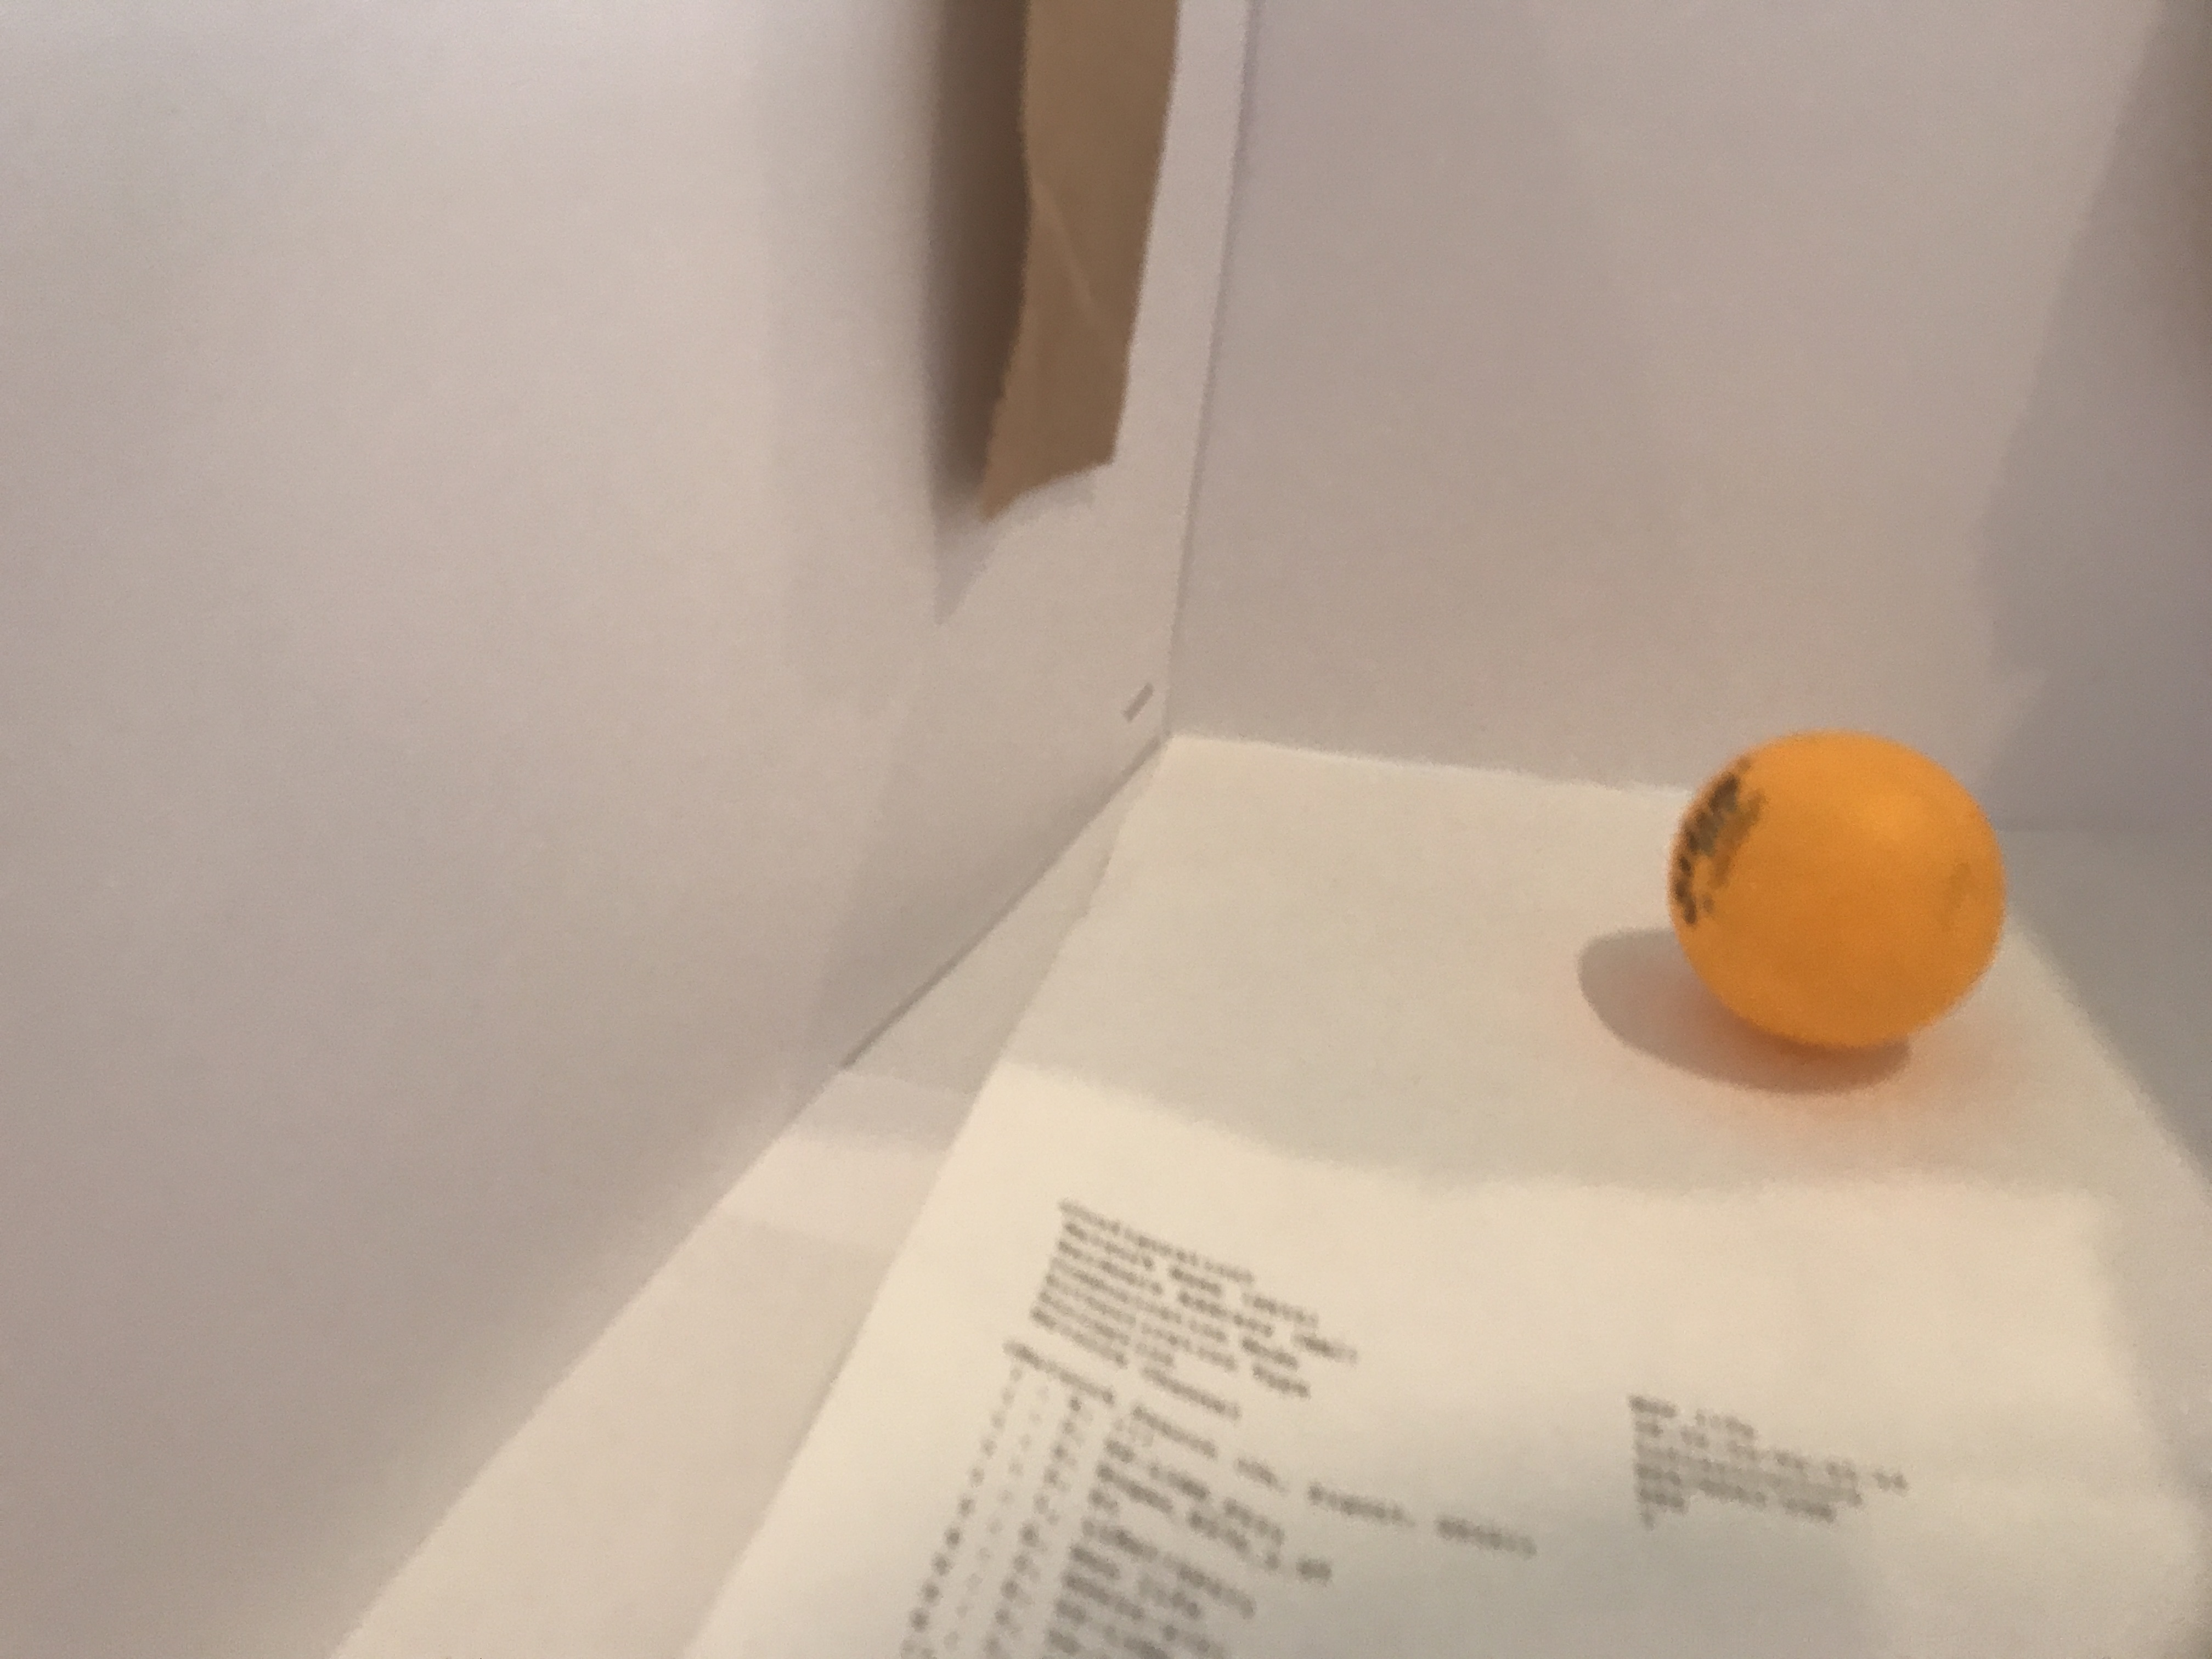pp: (1653, 725, 2013, 1054)
